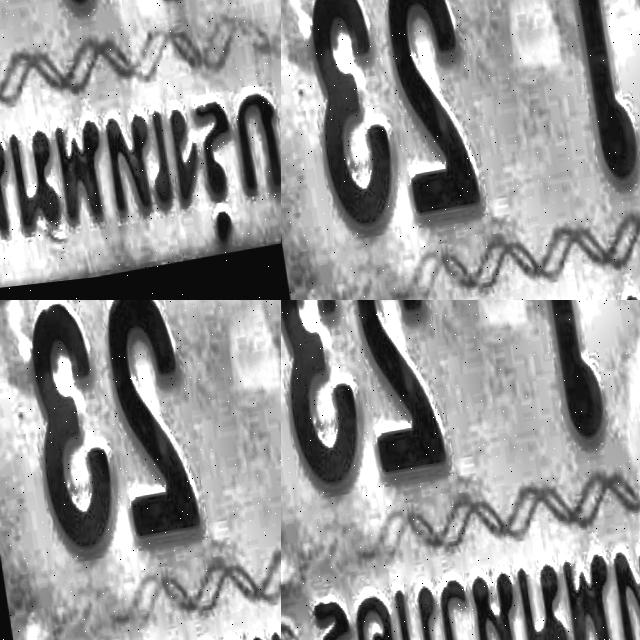license-plate: (281, 300, 640, 640), (281, 0, 640, 300), (45, 300, 281, 640)
